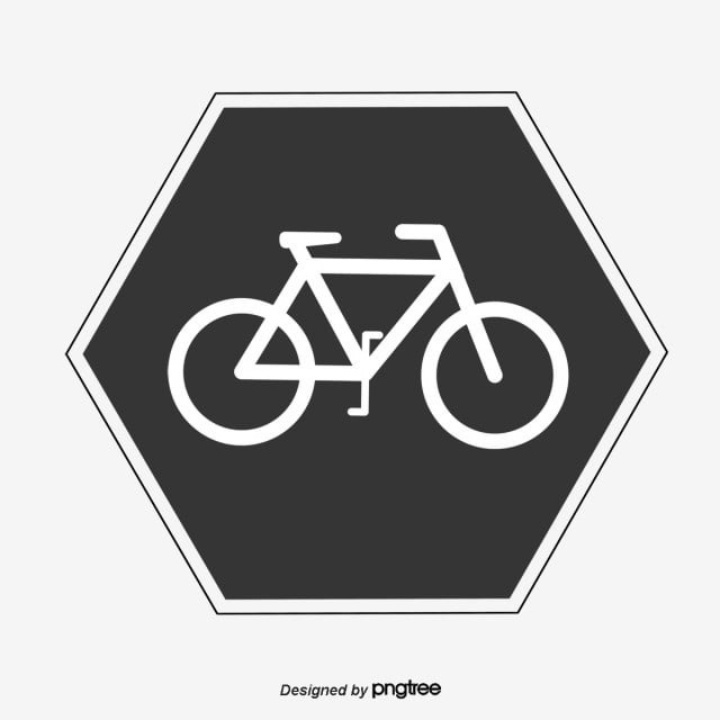bicycle: (161, 207, 573, 471)
